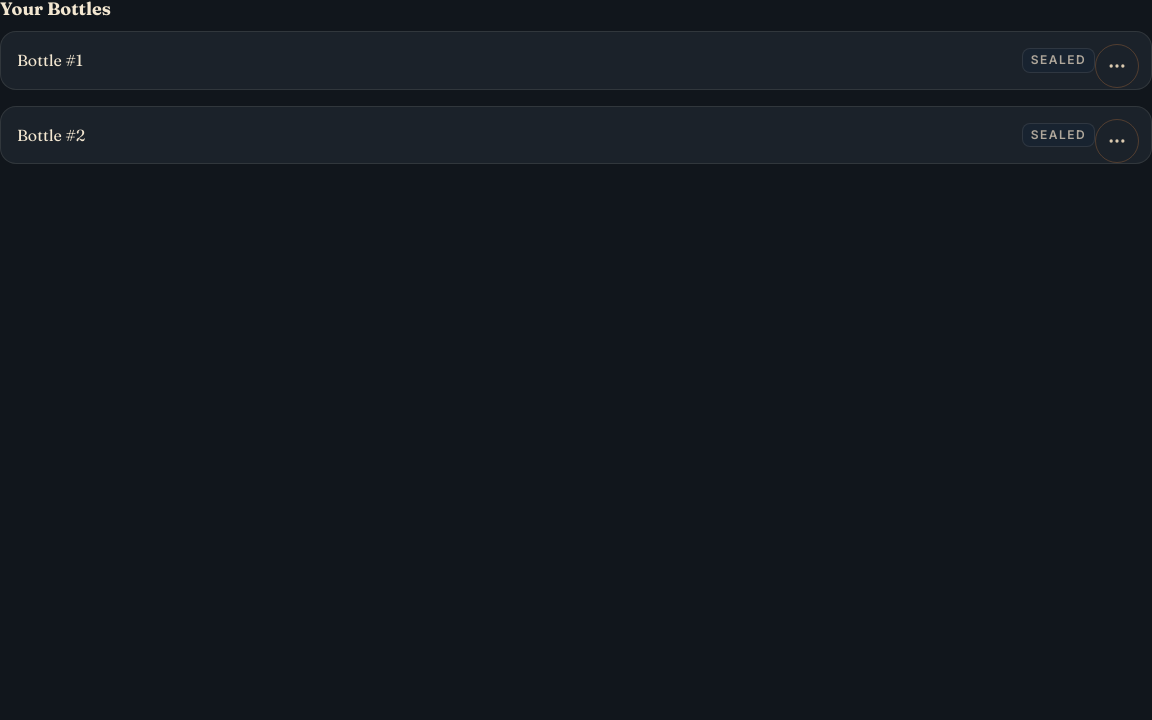
it: YourBottlesSection › a failed delete shows a retryable inline error
This screenshot has width=1152, height=720.
Click the button named "Bottle #2 actions": click(1117, 141) [1095,119,1139,163]
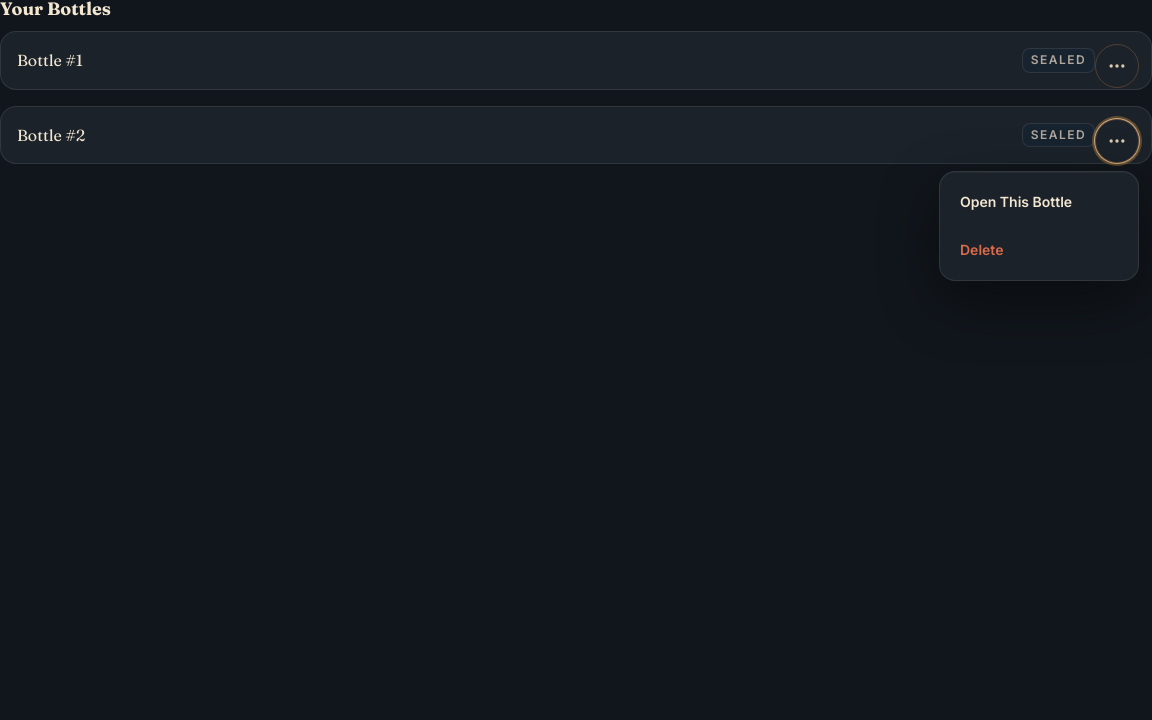
Click the menu item "Delete": click(1039, 250) [948,228,1130,272]
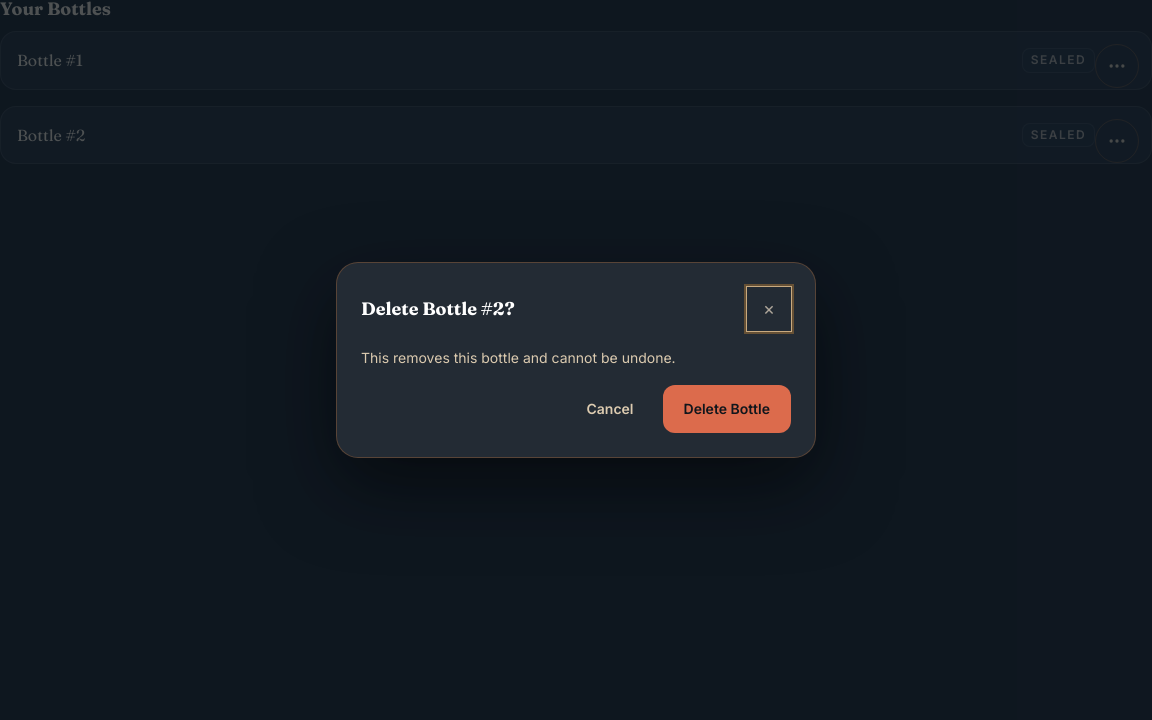
Click the button "Delete Bottle": click(727, 409) [662,385,791,433]
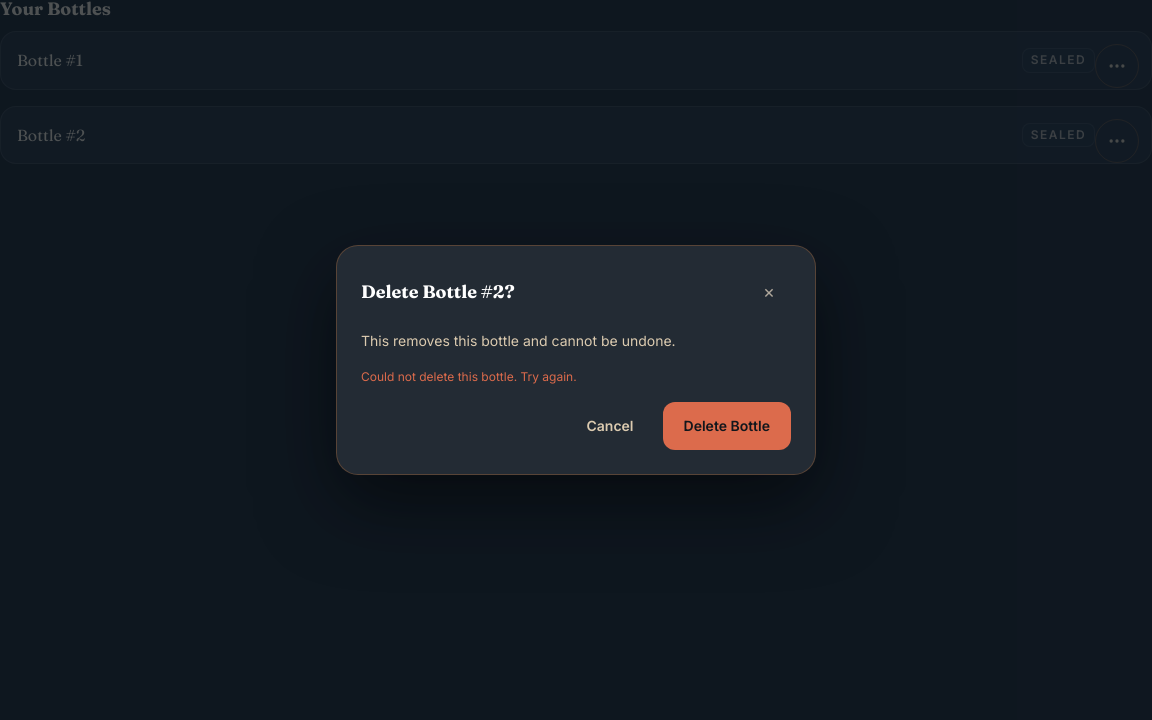
Now the text "Could not delete this bottle. Try again." is shown, box [361,369,577,384]
